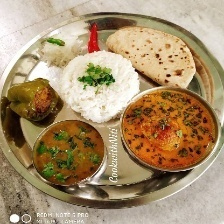sabzi: (4, 75, 60, 124)
